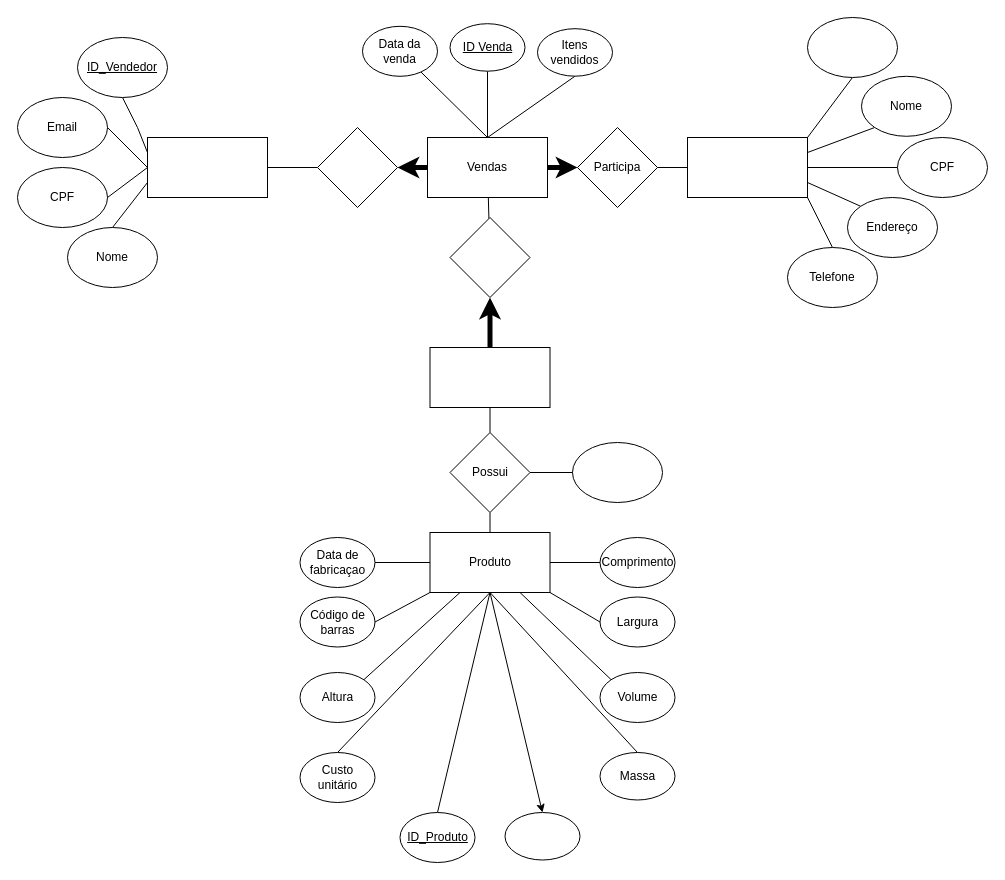
This 1005x880 diagram has some shape labels left out. Each missing label, with the box of its shape:
Comprador: (686, 136, 808, 198)
Contém: (449, 216, 530, 298)
ID_Comprador: (806, 16, 898, 78)
Quantidade inicial: (504, 812, 580, 860)
Quantidades: (572, 442, 662, 502)
Realiza: (316, 126, 398, 208)
Transações: (429, 346, 550, 408)
Vendedor: (146, 136, 268, 198)
